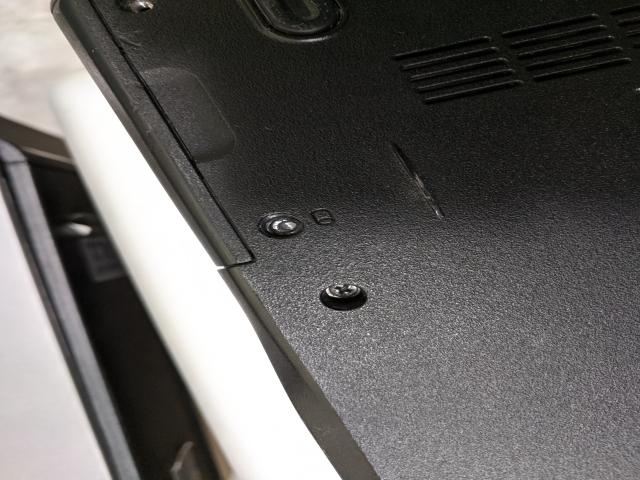CRS: (327, 280, 370, 302)
